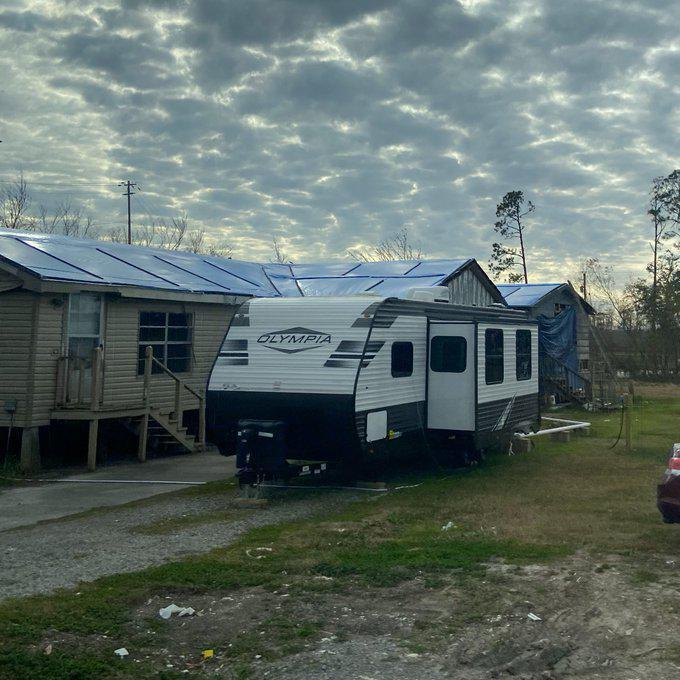affected: (0, 216, 522, 504)
